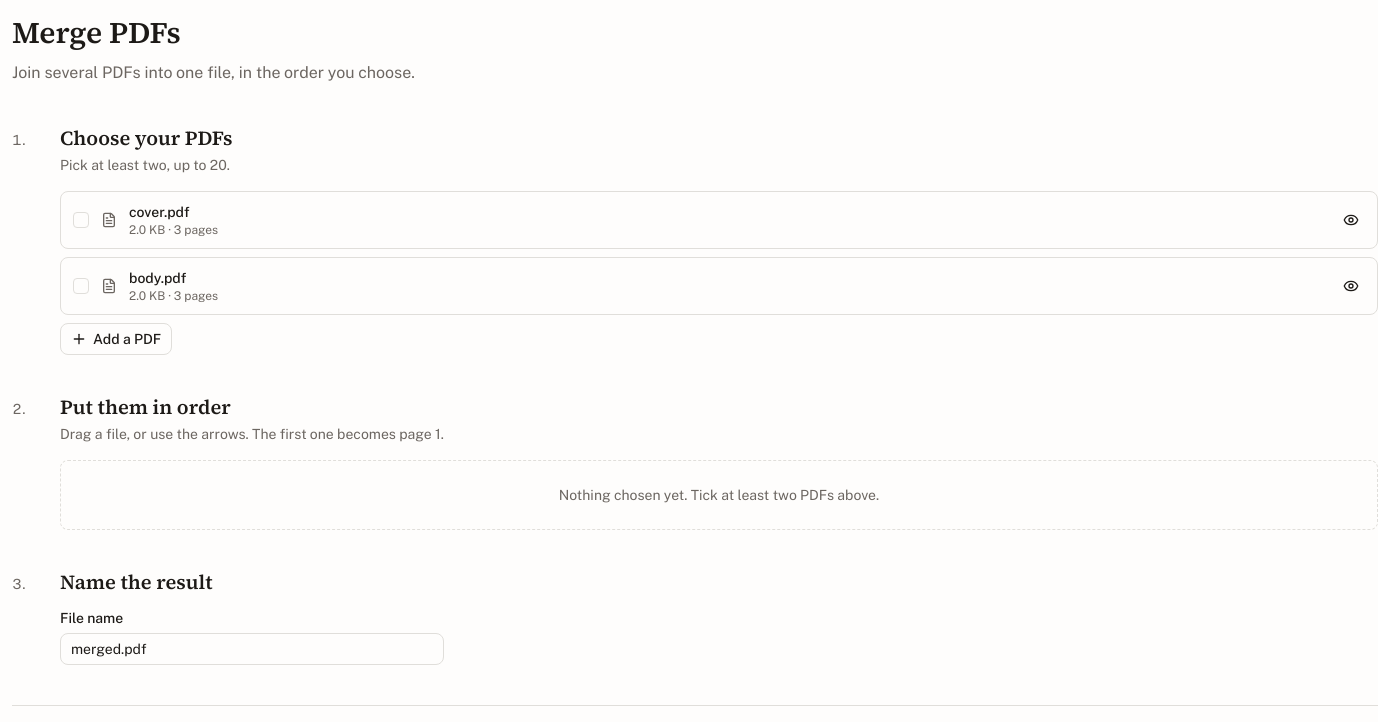
Scenario: Merge page › drops a file that is removed from the order
Click the checkbox named "cover.pdf" next to "cover.pdf" at (81, 220), box [73, 212, 89, 228]
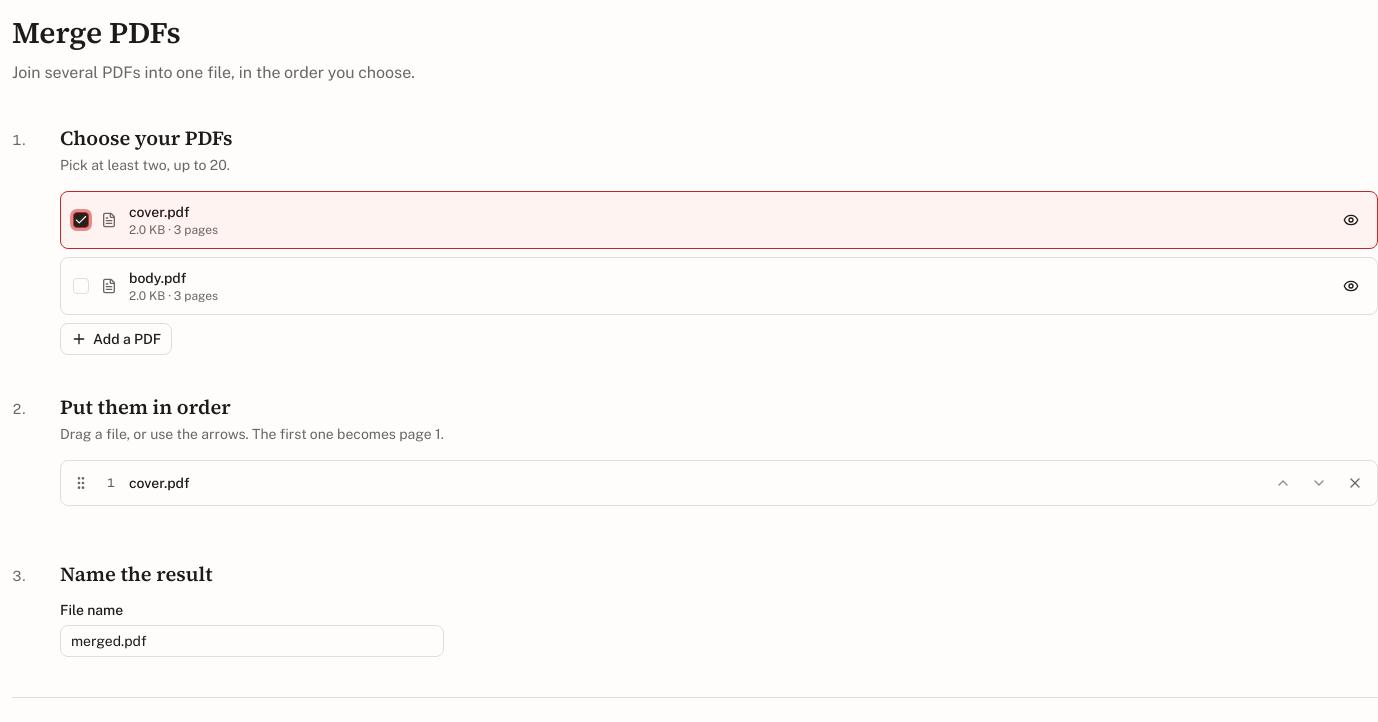
Click the checkbox next to "body.pdf" at (81, 286), box [73, 278, 89, 294]
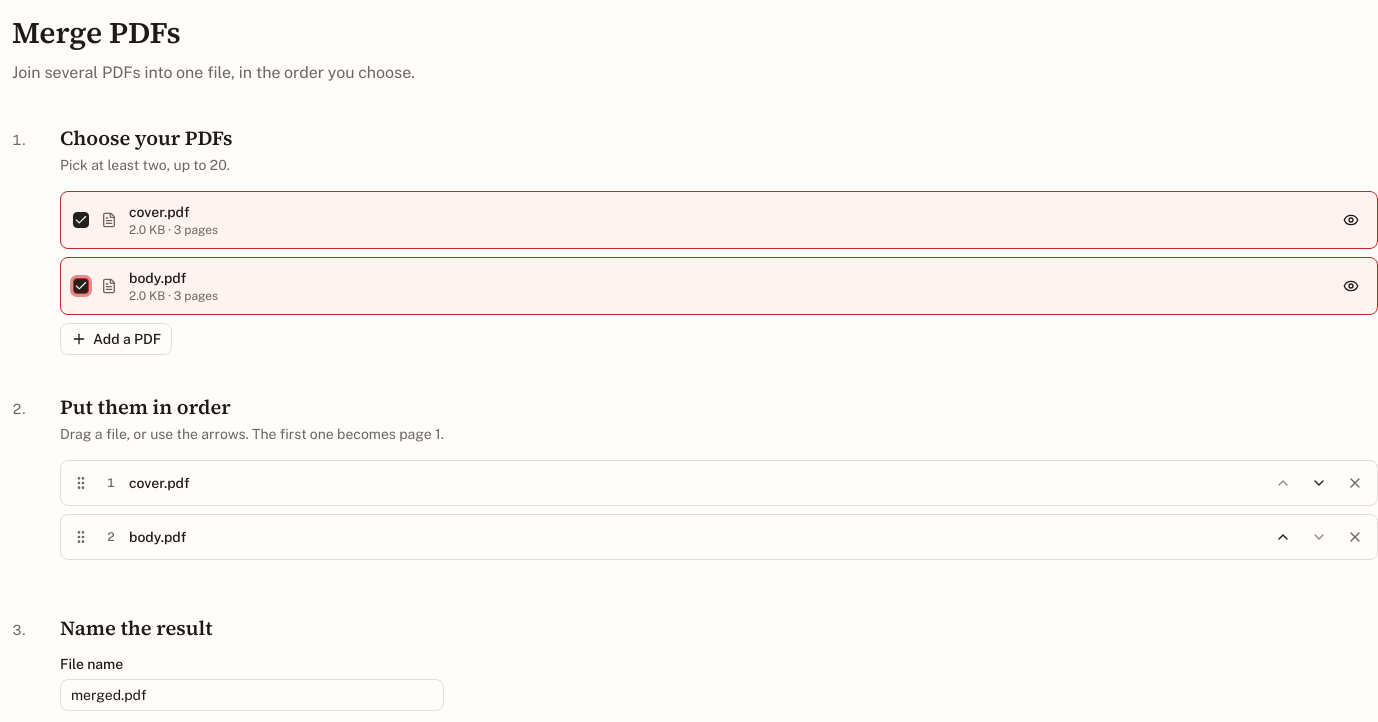
Click the button named "Remove cover.pdf" at (1355, 482), box [1341, 468, 1369, 496]
(page scrolled)
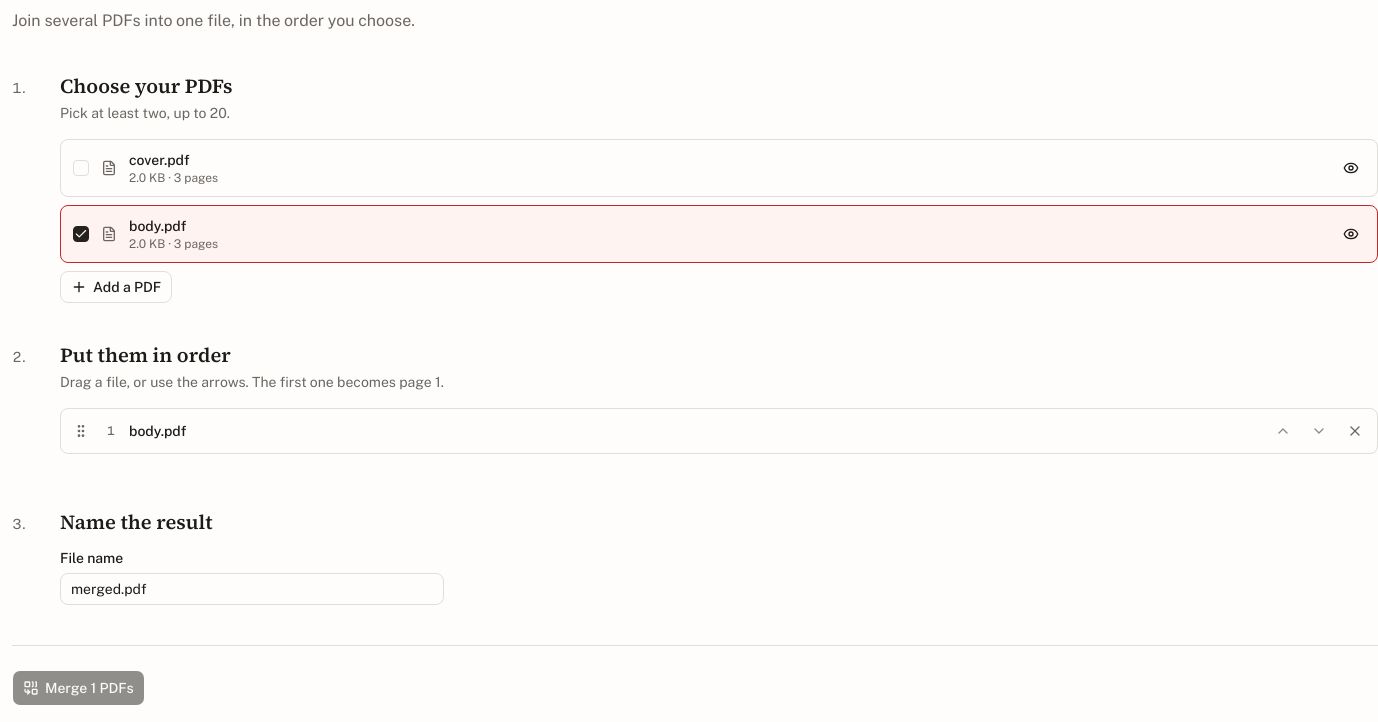
Now the button "Merge 1 PDFs" is disabled, box [12, 670, 145, 706]
